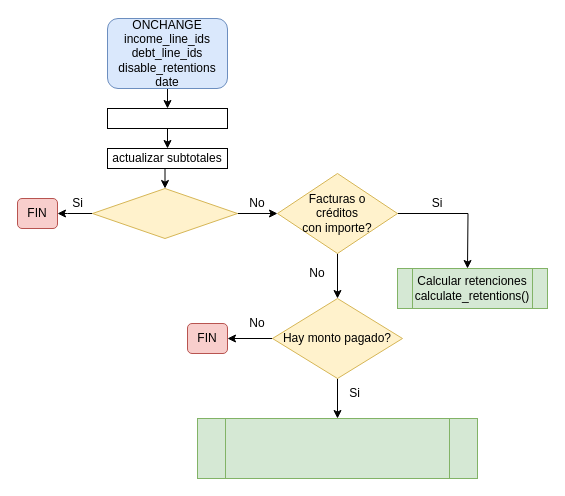
Image size: 565x496. Some labels were removed from this diagram. The shapes that lost their labels are listed below. From the top down, each one's box as (x1, y1, x2, y2) in pixels, then its label:
(106, 108, 228, 128): reset retention_ids
(92, 188, 238, 238): disable_retentions
(196, 418, 478, 478): Calcular retenciones compute_advance_payment_retentions()
